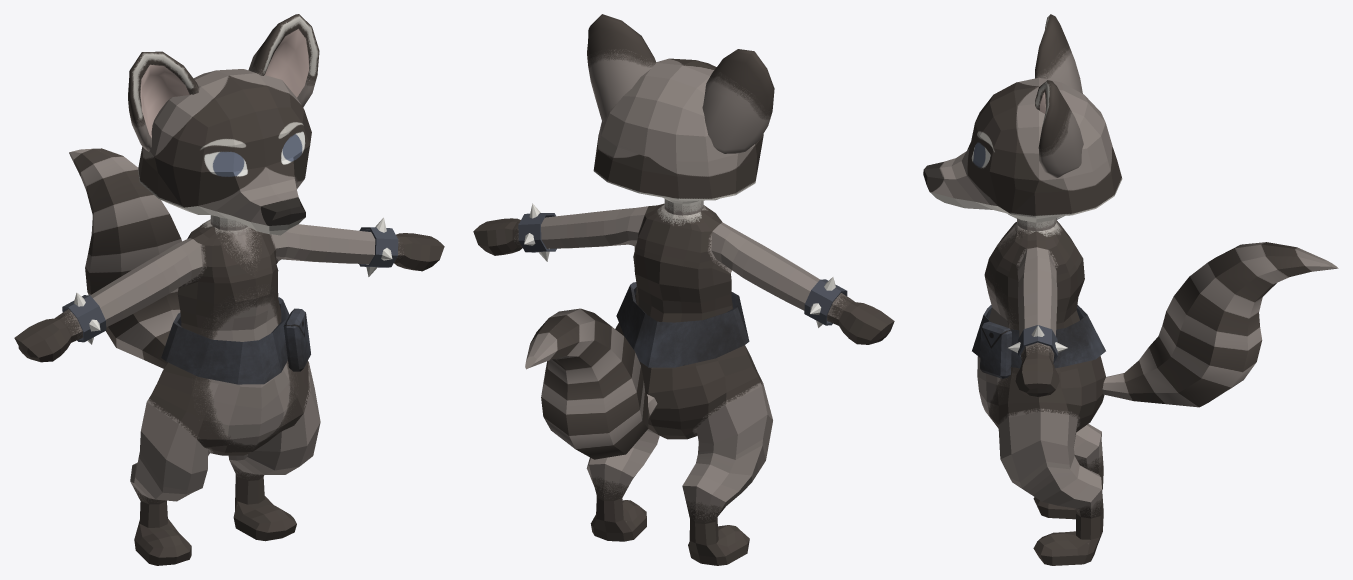
The model's file is JohnnyRaccoon.fbx.
3 renders of one model, left to right at view 1: azimuth 30°, elevation 25°; view 2: azimuth 150°, elevation 25°; view 3: azimuth 270°, elevation 25°, orthographic. The views are drawn at different scales.
Visible parts, largest first — view 1: Cuerpo2, Cola, Orejas, Cinturon, Pulsera; view 2: Cuerpo2, Cola, Orejas, Cinturon, Pulsera; view 3: Cuerpo2, Cola, Orejas, Cinturon, Pulsera.
Part boxes in pixels (x1,y1,x2,y2): Cuerpo2: (14, 69, 444, 565); Cola: (69, 148, 181, 368); Orejas: (128, 14, 319, 151); Cinturon: (161, 297, 310, 384); Pulsera: (62, 217, 398, 344); Cuerpo2: (473, 58, 894, 565); Cola: (525, 308, 657, 459); Orejas: (587, 14, 774, 153); Cinturon: (616, 282, 749, 367); Pulsera: (518, 203, 847, 327); Cuerpo2: (923, 77, 1122, 565); Cola: (1102, 242, 1338, 407); Orejas: (1035, 14, 1083, 177); Cinturon: (972, 305, 1105, 378); Pulsera: (1008, 214, 1067, 363).
Size of the model in its own units: 108 by 127 by 99.13.
Materials: 5 (5 with a texture image).
